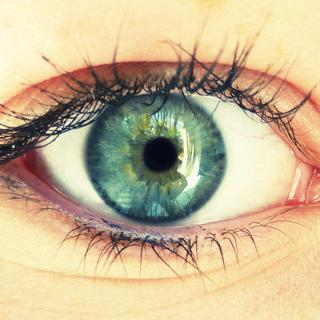pupil: (143, 138, 178, 173)
